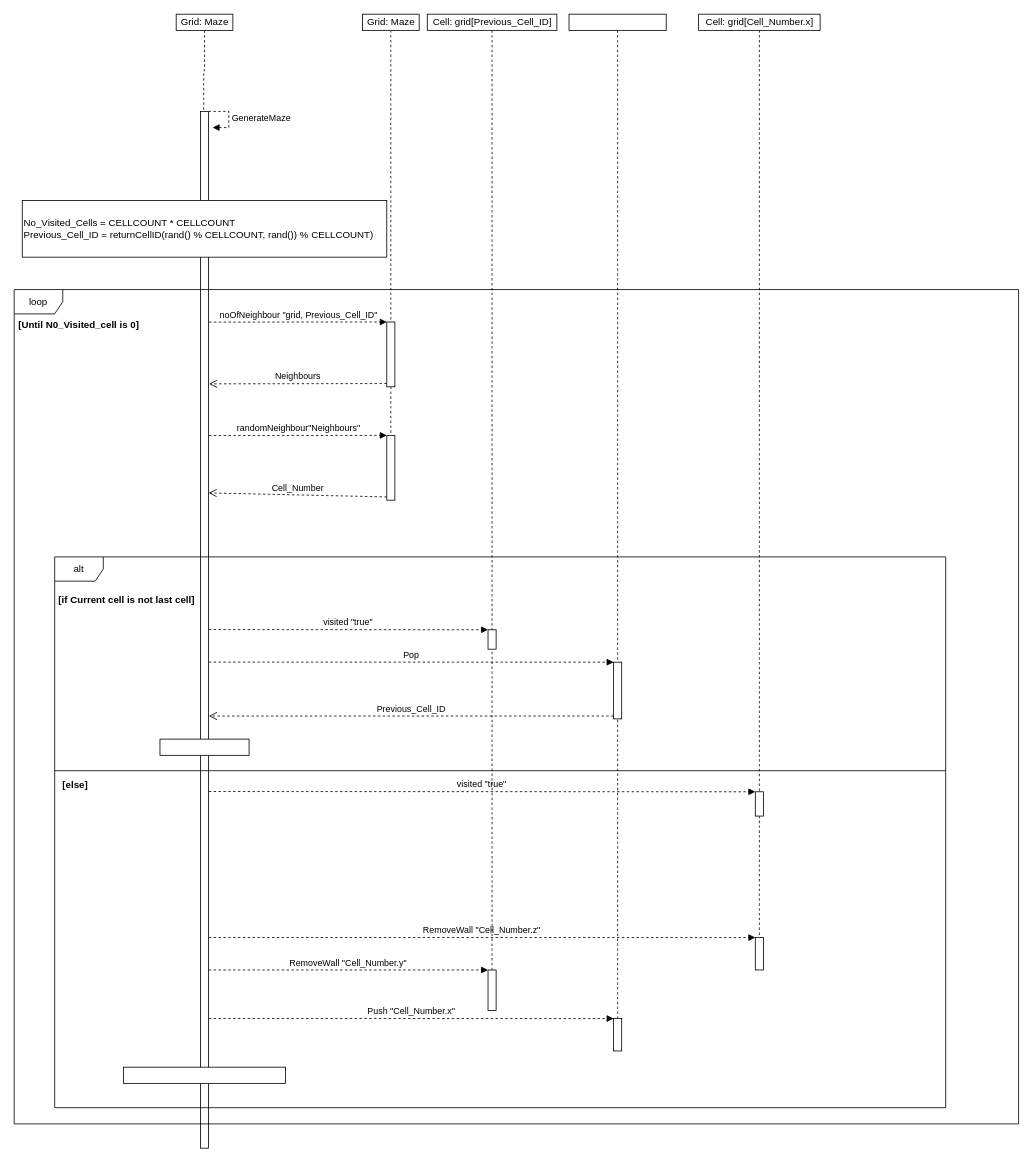
The diagram is 1033 pixels wide and 1162 high, and some of its shapes have lost their labels. Each missing label, with the centre of its shape:
--No_Visited_Cells: point (204, 746)
Previous_Cell_ID = Cell_Number.x: point (204, 1074)
Stack: _visitedCells: point (617, 21)
